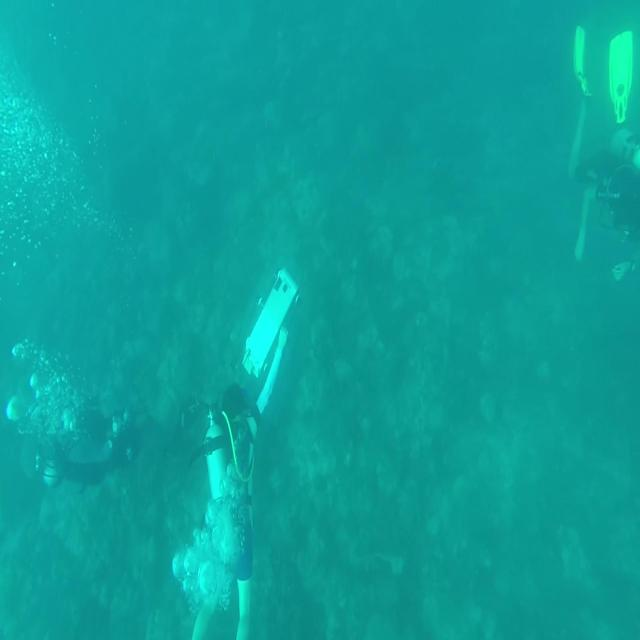human: (172, 313, 292, 638), (567, 23, 639, 282)
